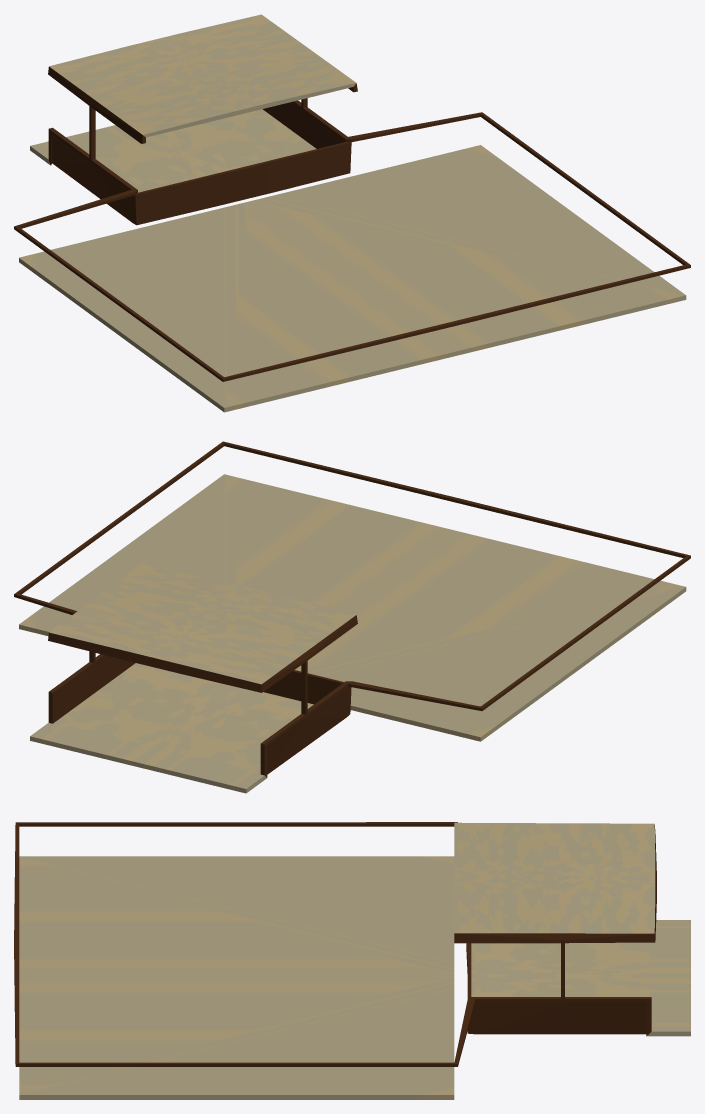
The model's file is shooting_range.glb.
3 views of the same model, one above another, from view 1: azimuth 30°, elevation 25°; view 2: azimuth 150°, elevation 25°; view 3: azimuth 270°, elevation 25° (orthographic). The views are drawn at different scales.
Parts seen in each view (by area): view 1: shooting_range; view 2: shooting_range; view 3: shooting_range.
Boxes of the visible parts, bbox=[...] form: shooting_range: bbox=[14, 14, 690, 412]; shooting_range: bbox=[14, 441, 690, 793]; shooting_range: bbox=[14, 822, 690, 1099].
Size of the model in its own units: 21.87 by 4.37 by 25.85.
Materials: 2 (1 with a texture image).
